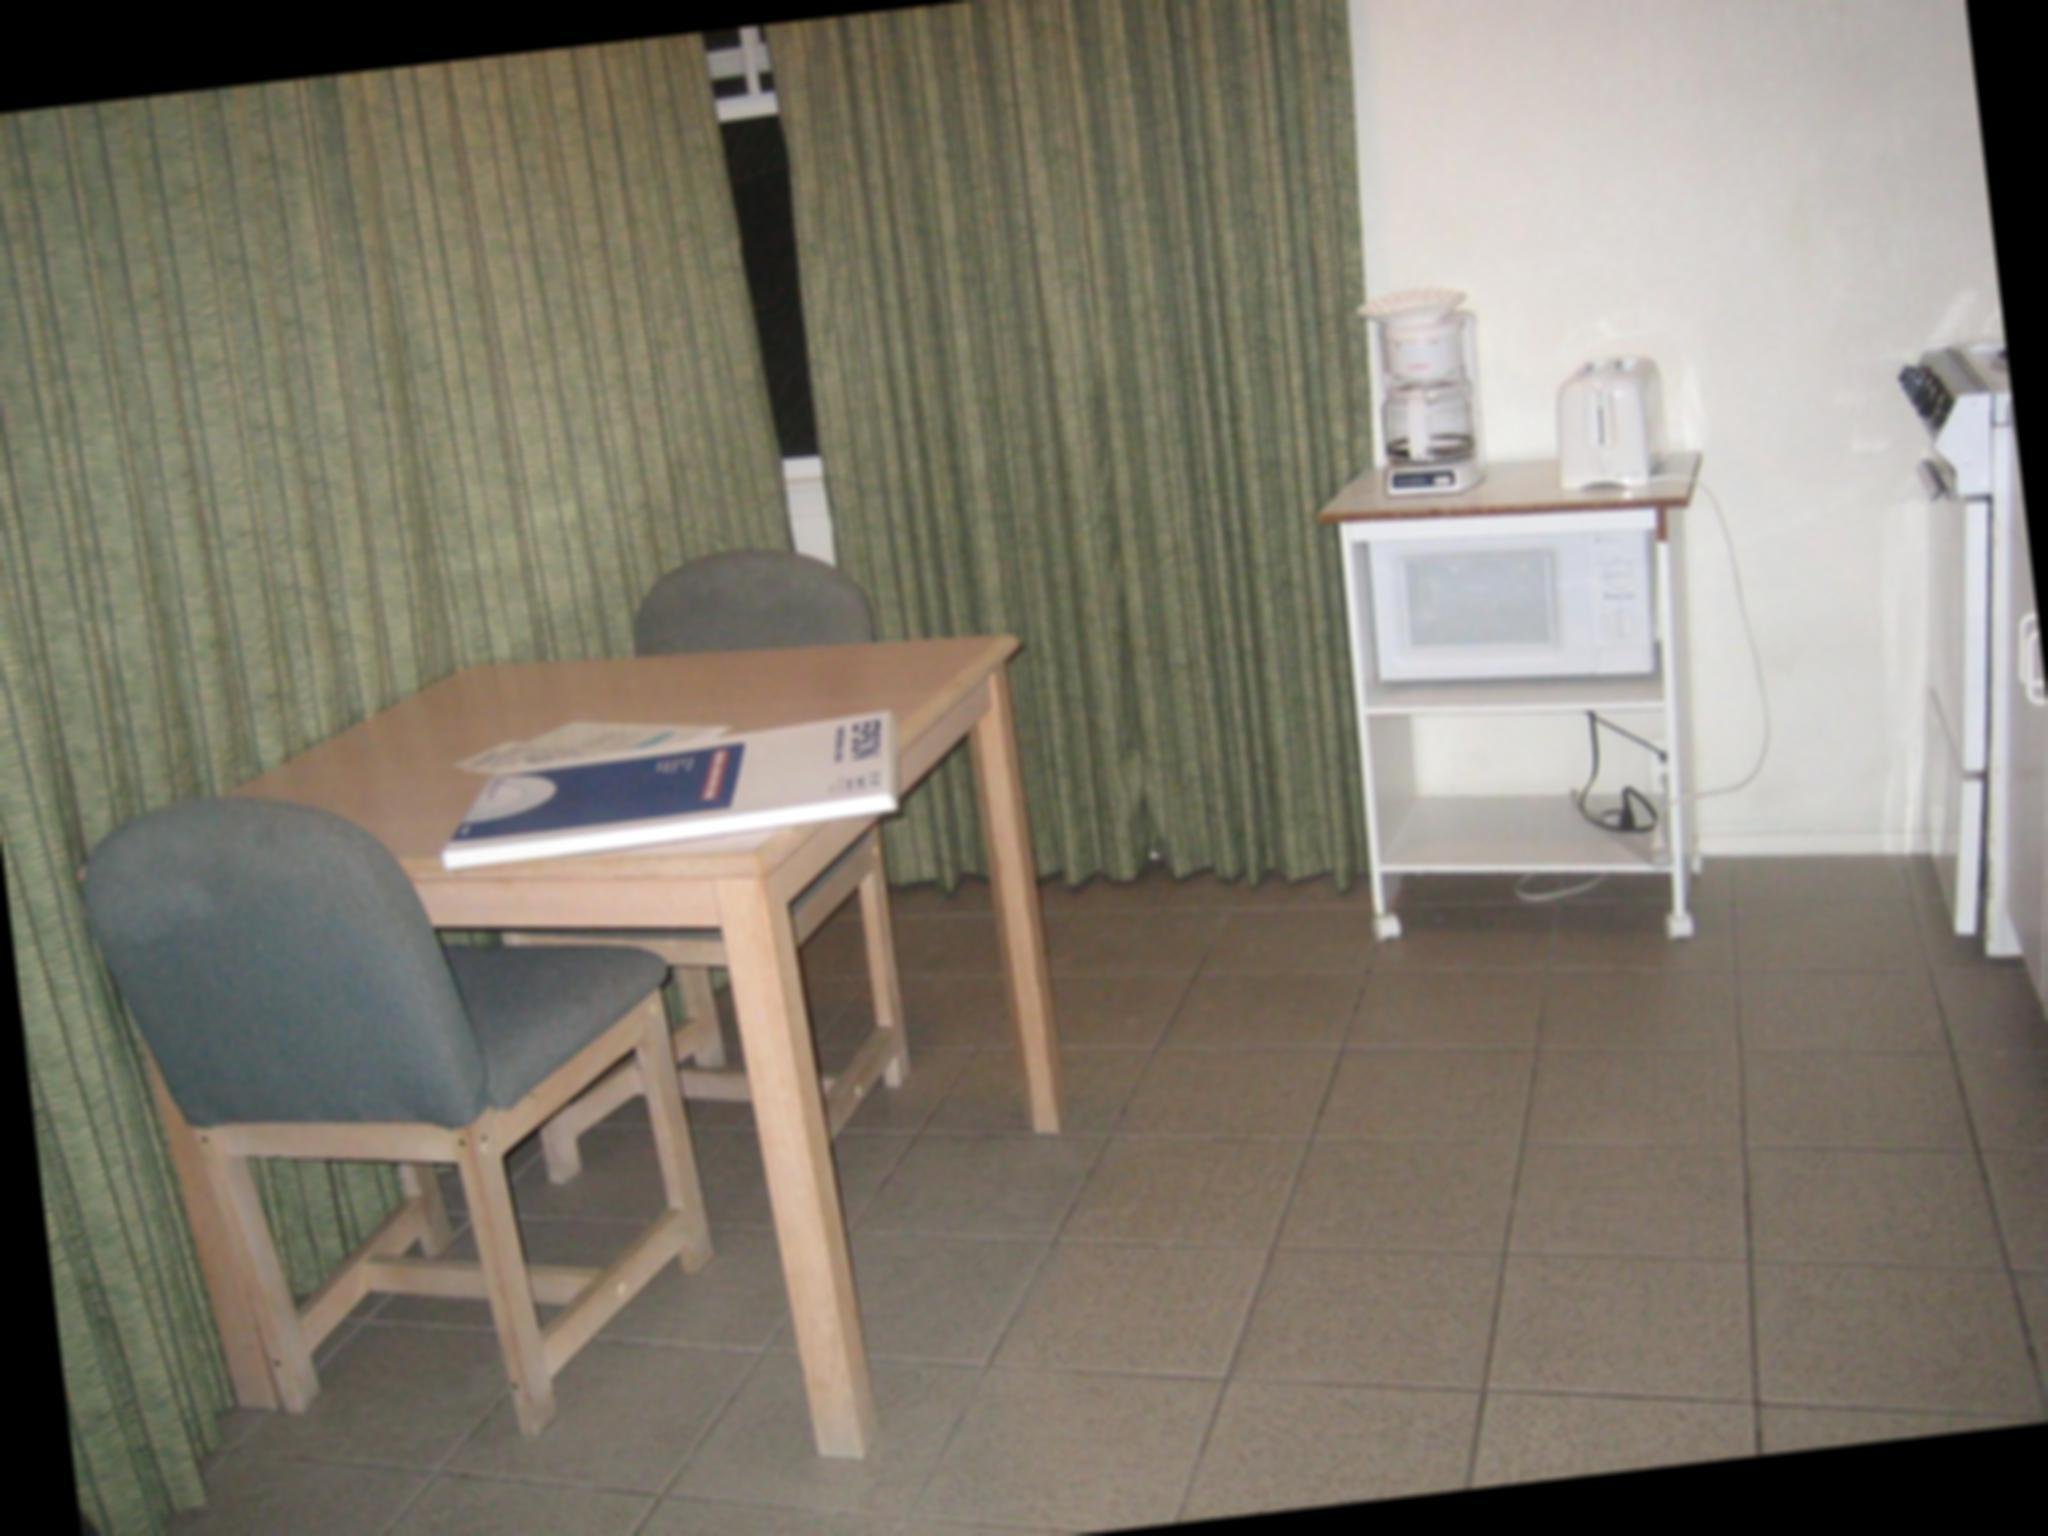Electrodomestico: (1861, 328, 2048, 978)
